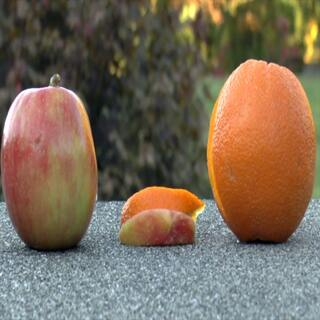apple: (4, 74, 184, 264)
orange: (121, 52, 308, 246)
